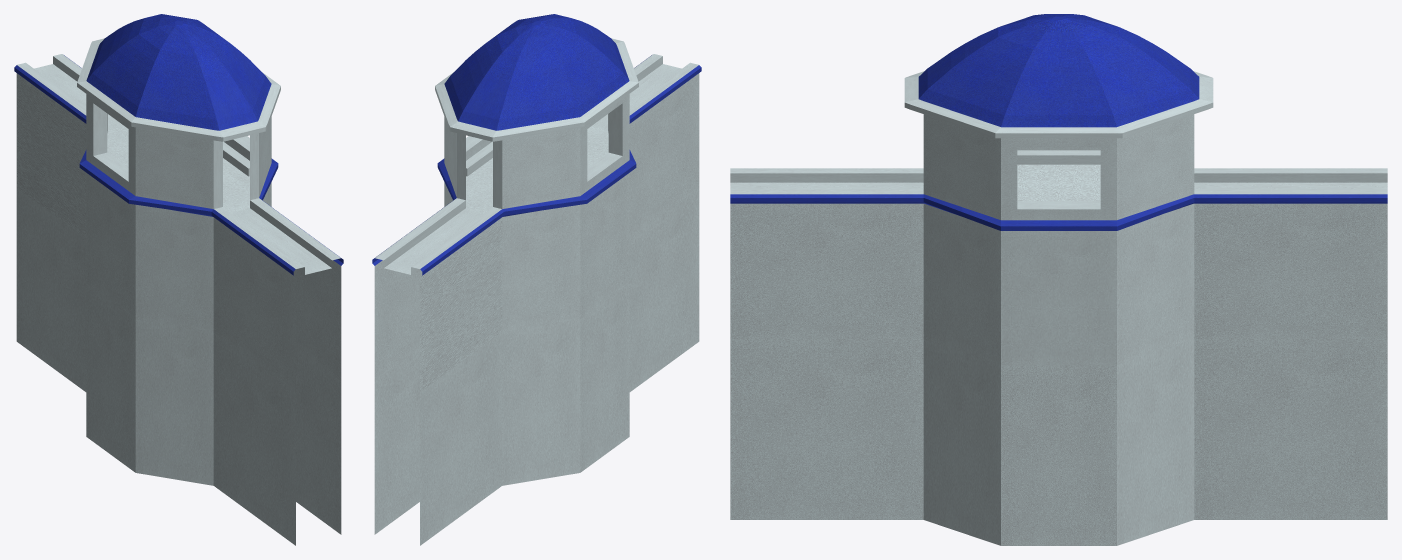
File: Cat's Cape Village Wall.glb
3 views of the same model, side by side, from view 1: azimuth 30°, elevation 25°; view 2: azimuth 150°, elevation 25°; view 3: azimuth 270°, elevation 25° (orthographic). The views are drawn at different scales.
Parts seen in each view (by area): view 1: Cube; view 2: Cube; view 3: Cube.
Boxes of the visible parts, x1=… form: Cube: x1=14, y1=14, x2=343, y2=545; Cube: x1=372, y1=14, x2=701, y2=545; Cube: x1=730, y1=14, x2=1387, y2=545.
Bounding box in the file's own units: 19.8 × 52.5 × 64.
Materials: 2 (2 with a texture image).
